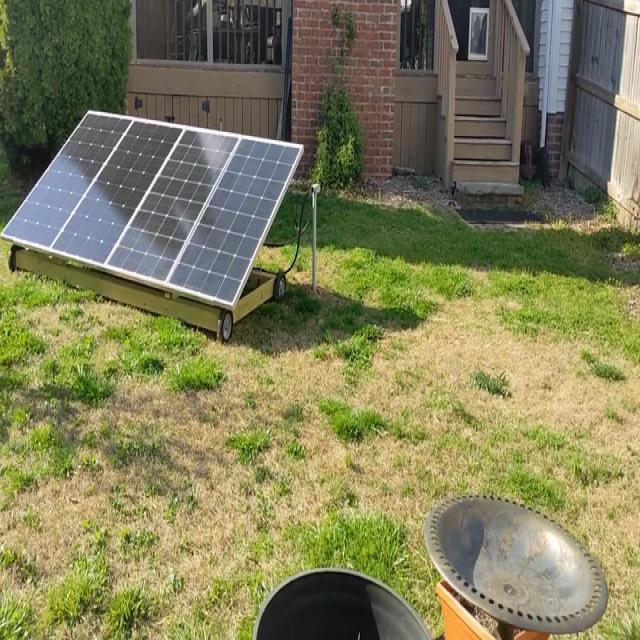Normal Solar Panel: (0, 109, 303, 309)
